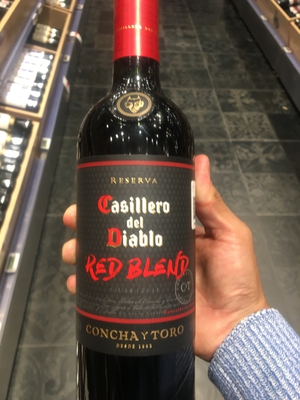casillero del diablo red blend: (68, 32, 201, 400)
